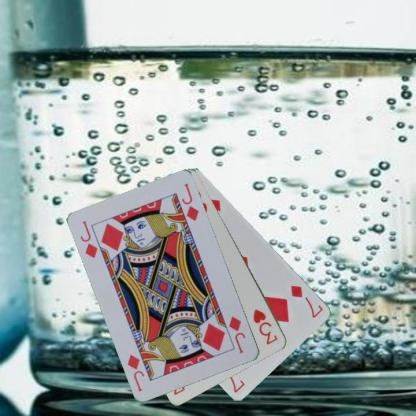3h: (250, 306, 279, 346)
7d: (288, 282, 325, 320)
Jd: (78, 218, 100, 260), (226, 314, 247, 354)
